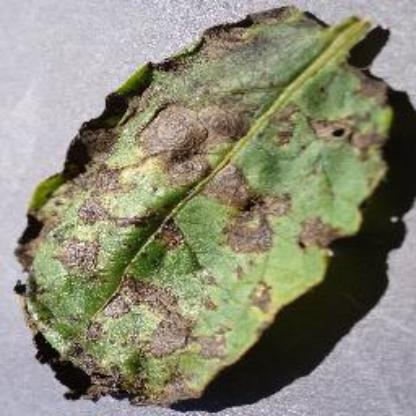Early-Blight: (15, 6, 410, 406)
